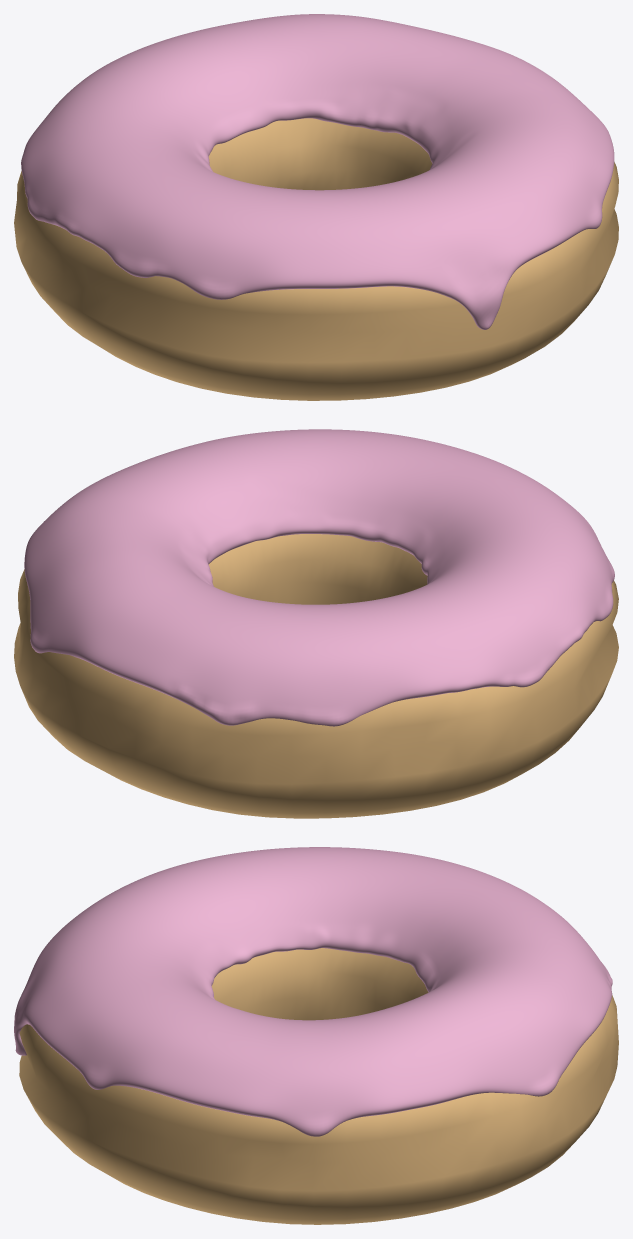
The model's file is asset.glb.
The picture shows the model from 3 angles, top to bottom: view 1: azimuth 30°, elevation 25°; view 2: azimuth 150°, elevation 25°; view 3: azimuth 270°, elevation 25°; orthographic projection. The views are drawn at different scales.
Visible parts, largest first — view 1: Icing, Donut; view 2: Icing, Donut; view 3: Icing, Donut.
Boxes of the visible parts, bbox=[...] form: Icing: bbox=[21, 14, 614, 329]; Donut: bbox=[14, 118, 618, 400]; Icing: bbox=[24, 429, 614, 726]; Donut: bbox=[14, 534, 618, 818]; Icing: bbox=[14, 847, 612, 1136]; Donut: bbox=[19, 948, 618, 1224].
Bounding box in the file's own units: 0.1473 × 0.0534 × 0.1502.
